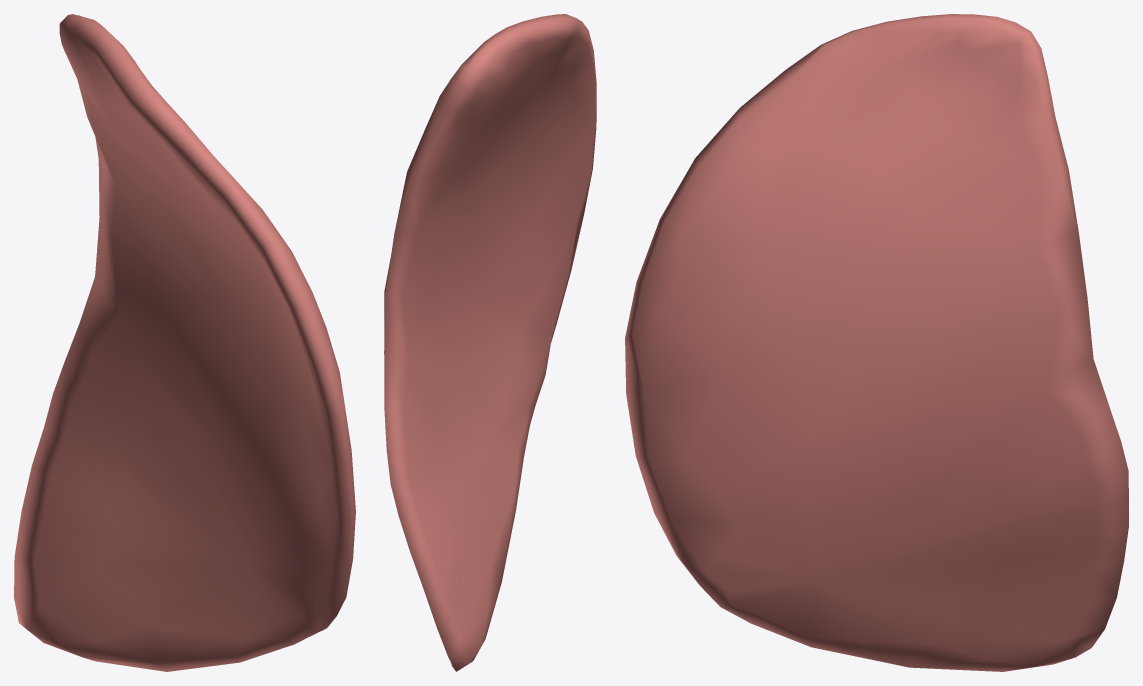
3 views of the same model, side by side, from view 1: azimuth 30°, elevation 25°; view 2: azimuth 150°, elevation 25°; view 3: azimuth 270°, elevation 25° (orthographic). The views are drawn at different scales.
Parts seen in each view (by area): view 1: ZA_85b366442f1febde; view 2: ZA_85b366442f1febde; view 3: ZA_85b366442f1febde.
Part boxes in pixels (<box>): ZA_85b366442f1febde: <box>14,14,355,671</box>; ZA_85b366442f1febde: <box>384,14,596,671</box>; ZA_85b366442f1febde: <box>625,14,1128,671</box>.
Bounding box in the file's own units: 0.00262 × 0.0115 × 0.0081.
